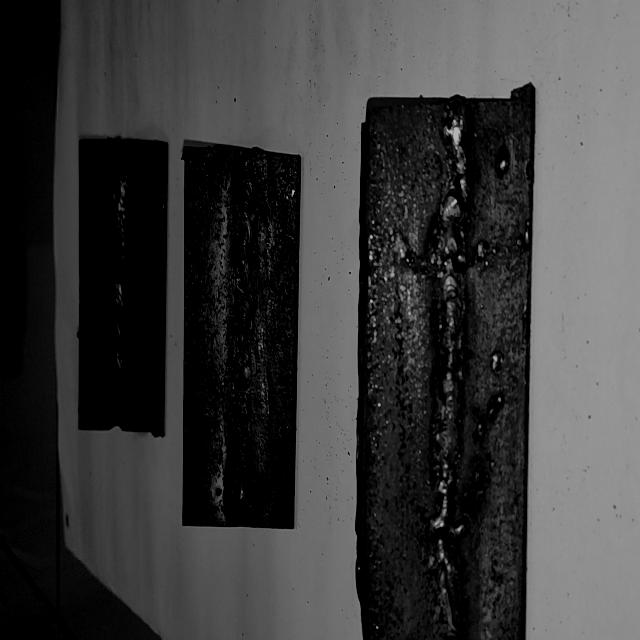Bad Weld: (232, 154, 258, 525)
Defect: (232, 159, 256, 519)
Good Weld: (428, 106, 470, 631), (110, 141, 128, 425)
